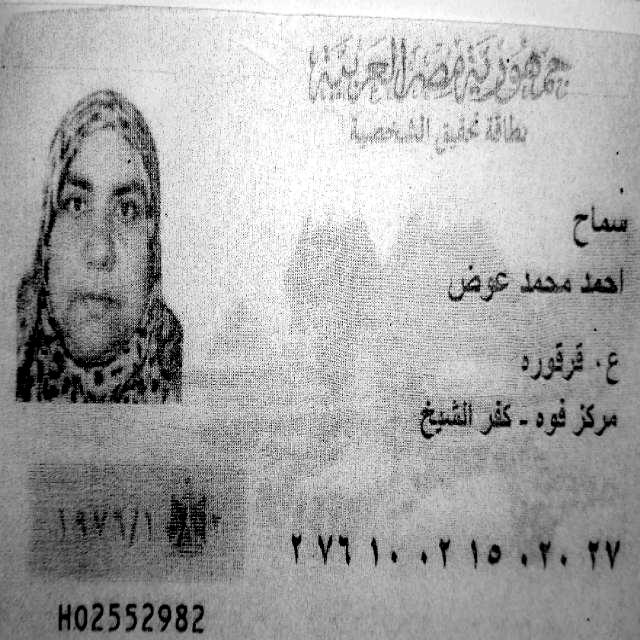id_card: (0, 4, 639, 639)
